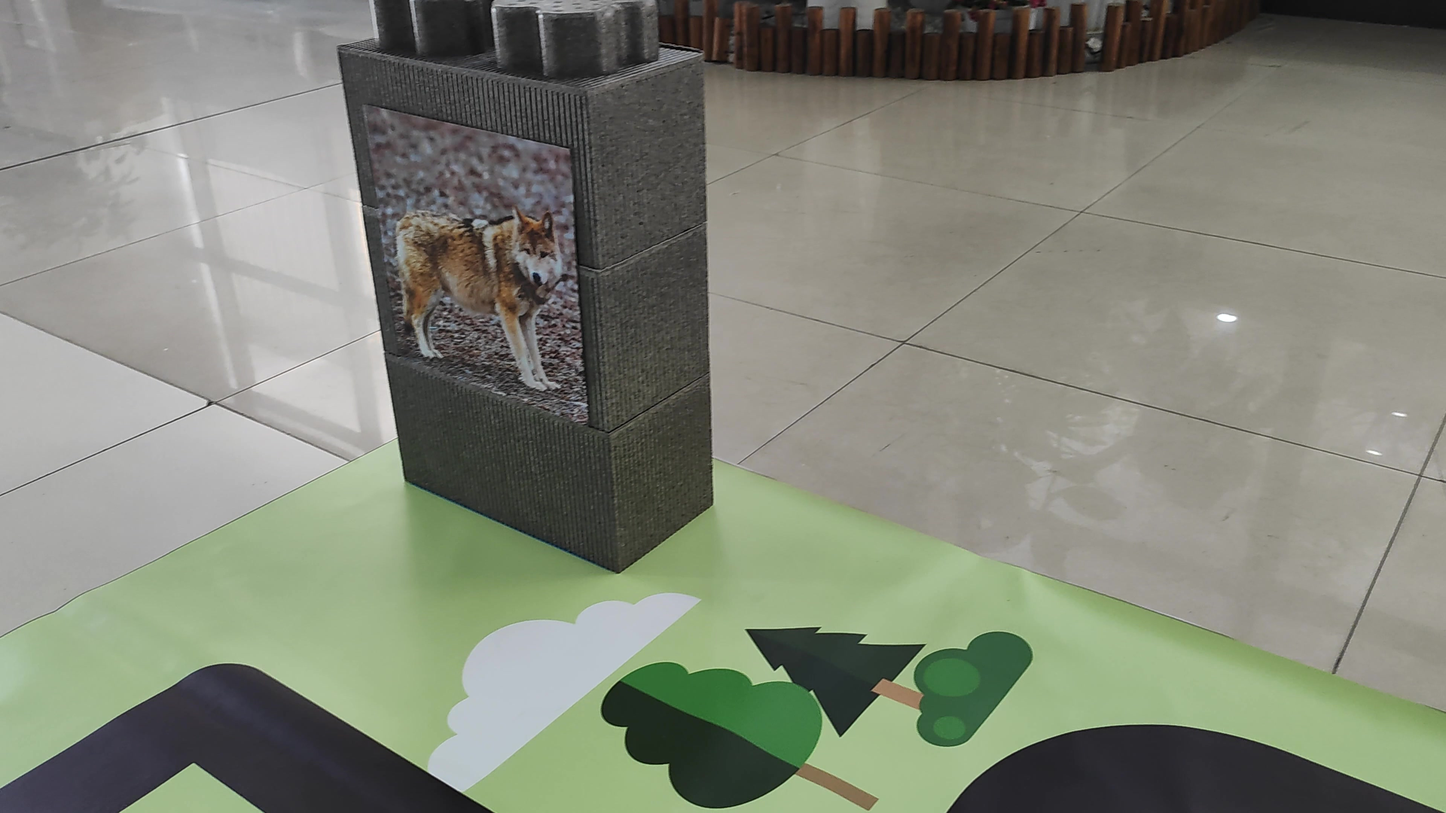wolf: (373, 177, 578, 408)
